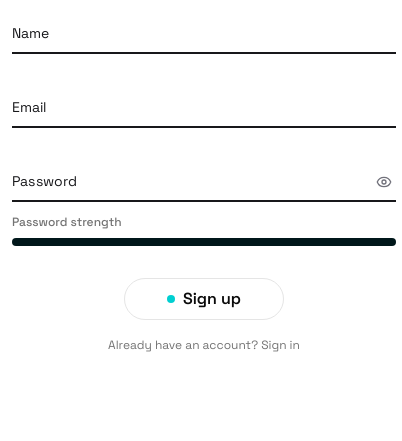
Test: <SignupForm /> › blocks submit when fields are empty
The width and height of the screenshot is (402, 441).
Click the button "Sign up". click: (204, 299)
box: [124,278,284,320]
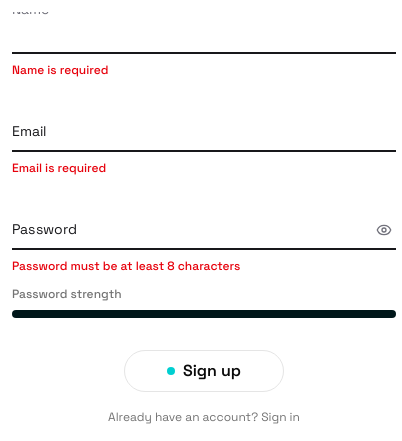
Now the message "Name is required" is shown, box [12,62,108,78]
